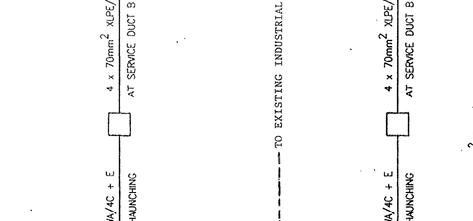Cable Termination Box: (375, 107, 432, 144), (100, 108, 146, 145)
